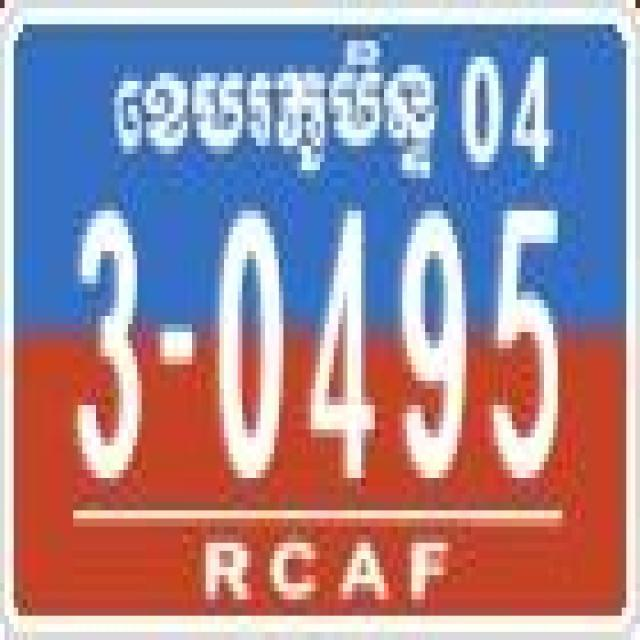RCAF: (105, 32, 439, 198)
